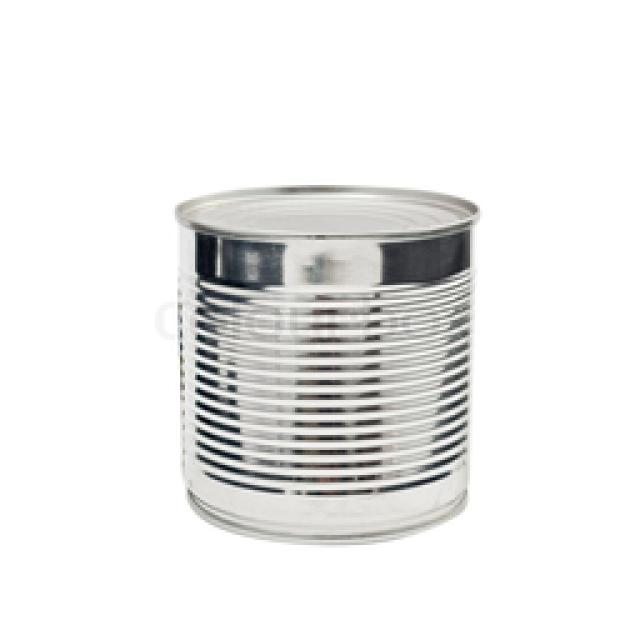alumunium: (178, 188, 475, 540)
